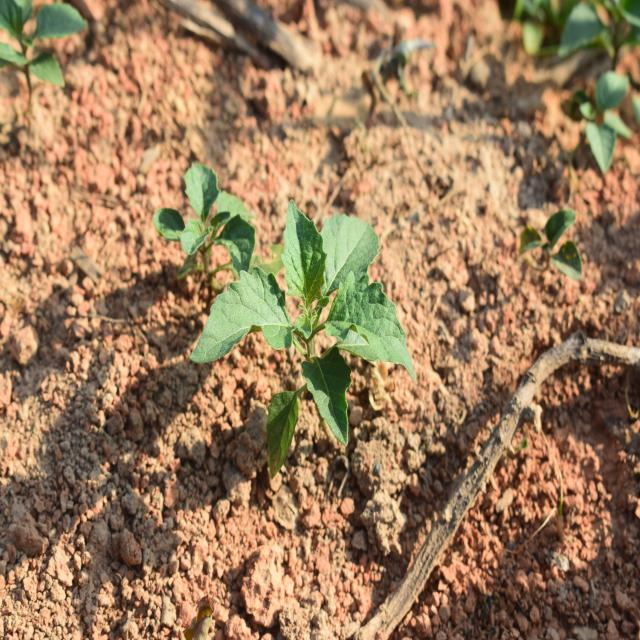Black_nightshade: (200, 200, 422, 466), (153, 132, 277, 302)
